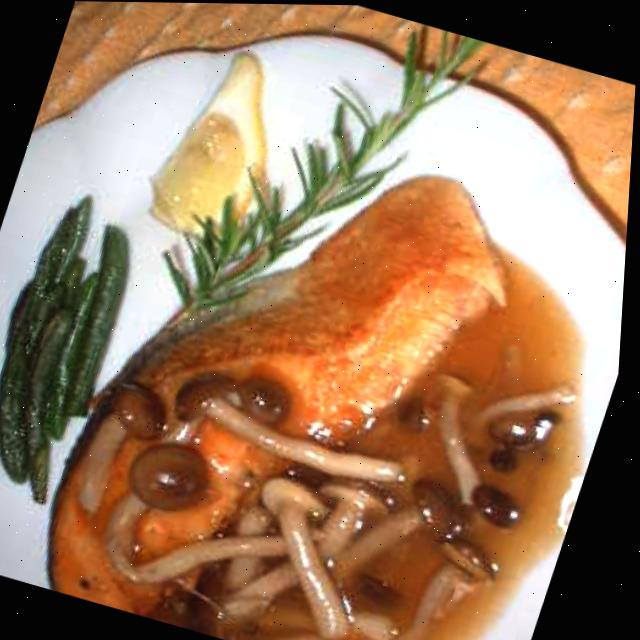熟制海鲜: (33, 94, 530, 640)
